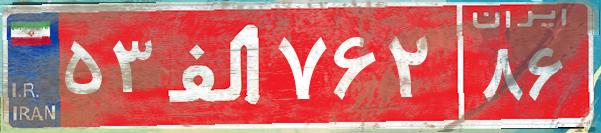2: (385, 28, 445, 110)
3: (110, 28, 158, 105)
5: (57, 26, 110, 107)
6: (330, 28, 385, 110), (525, 38, 570, 115)
7: (273, 28, 330, 110)
8: (475, 38, 525, 113)
الف: (158, 15, 273, 115)
